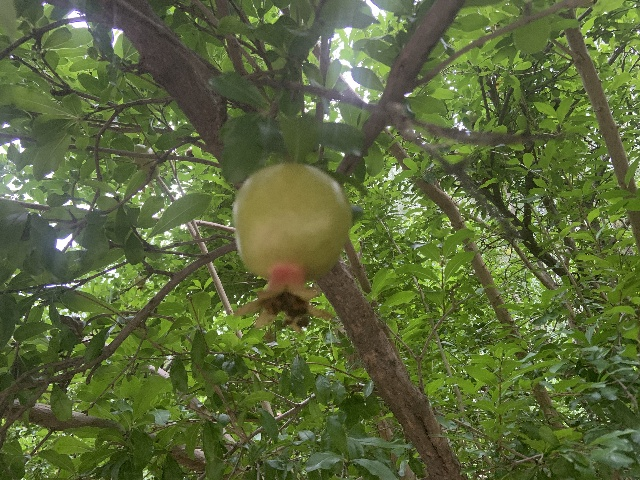mid-growth: (231, 163, 353, 333)
